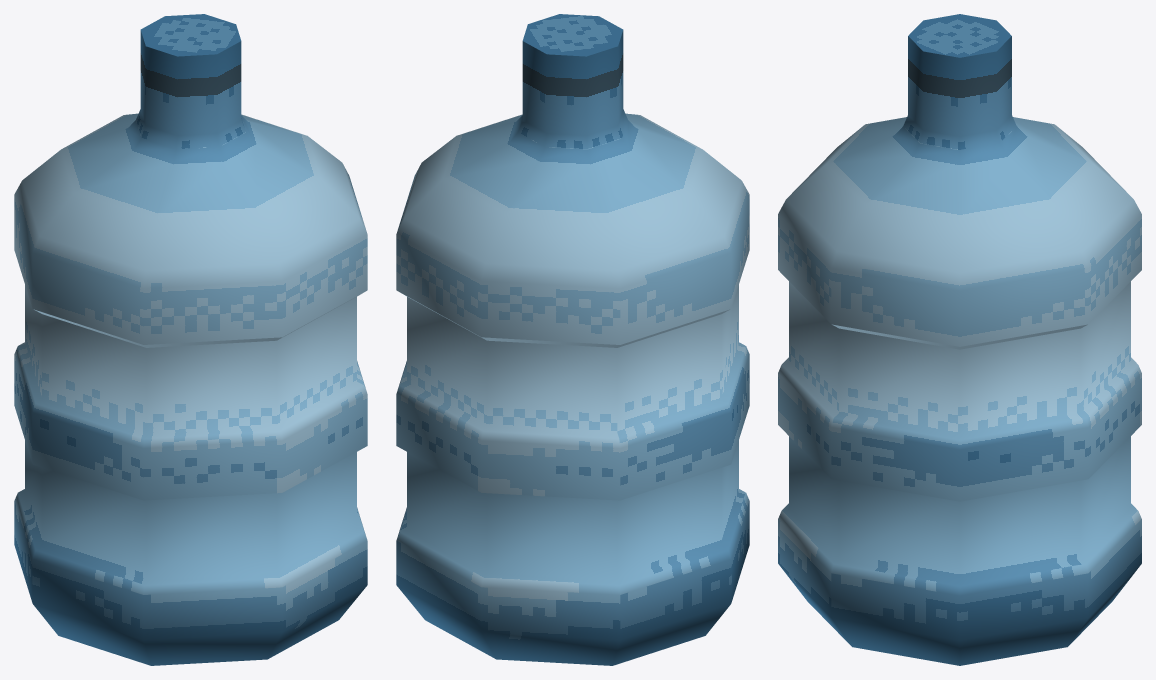
File: WaterTank_Hand.fbx
3 renders of one model, left to right at view 1: azimuth 30°, elevation 25°; view 2: azimuth 150°, elevation 25°; view 3: azimuth 270°, elevation 25°, orthographic.
Visible parts, largest first — view 1: WaterTank; view 2: WaterTank; view 3: WaterTank.
Boxes of the visible parts, x1,y1,x2,y2 form: WaterTank: (14, 14, 367, 665); WaterTank: (396, 14, 749, 665); WaterTank: (778, 14, 1141, 665).
Bounding box in the file's own units: 0.1726 × 0.296 × 0.1726.
